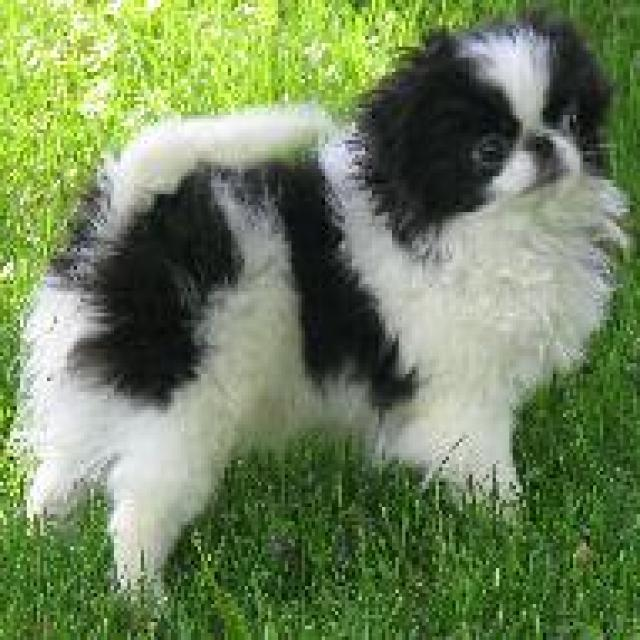husky: (7, 10, 633, 608)
